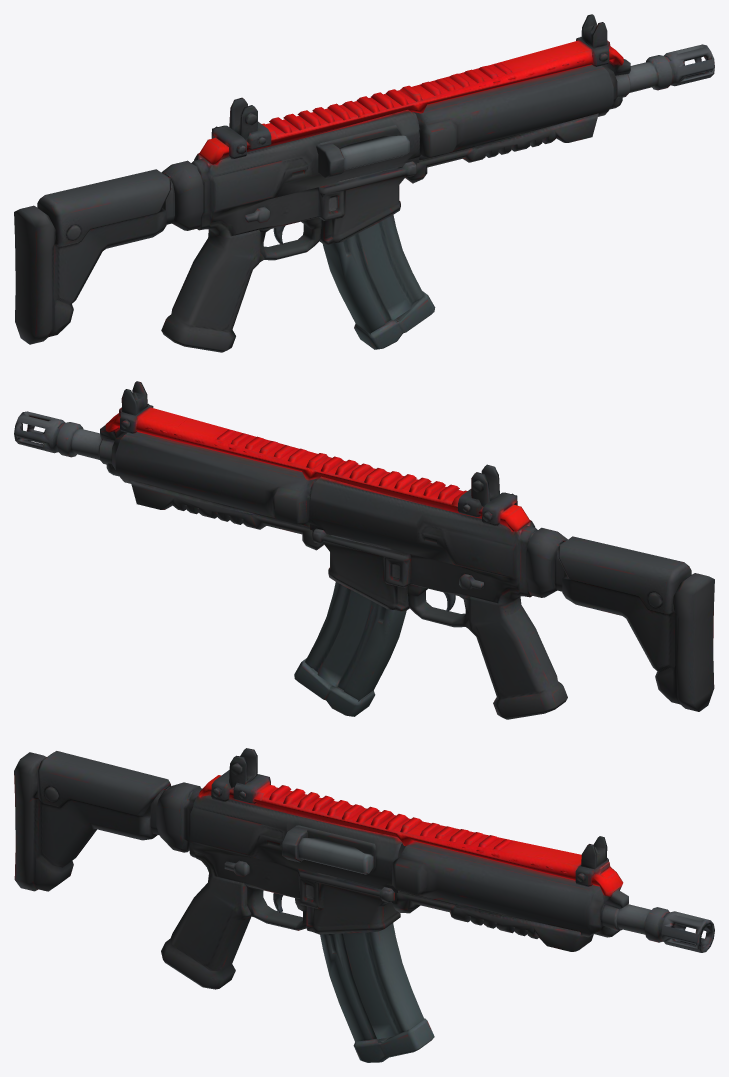
The model's file is security-rifle.glb.
The picture shows the model from 3 angles, top to bottom: view 1: azimuth 30°, elevation 25°; view 2: azimuth 150°, elevation 25°; view 3: azimuth 330°, elevation 25°; orthographic projection.
Parts seen in each view (by area): view 1: tripo_node_0a820726-6f27-4d64-8ed0-42f61389d448; view 2: tripo_node_0a820726-6f27-4d64-8ed0-42f61389d448; view 3: tripo_node_0a820726-6f27-4d64-8ed0-42f61389d448.
Part boxes in pixels (x1,y1,x2,y2): tripo_node_0a820726-6f27-4d64-8ed0-42f61389d448: [14, 14, 714, 352]; tripo_node_0a820726-6f27-4d64-8ed0-42f61389d448: [14, 381, 714, 719]; tripo_node_0a820726-6f27-4d64-8ed0-42f61389d448: [14, 748, 714, 1062].
Bounding box in the file's own units: 0.9995 × 0.3823 × 0.1099.
1 material, 1 textured.
